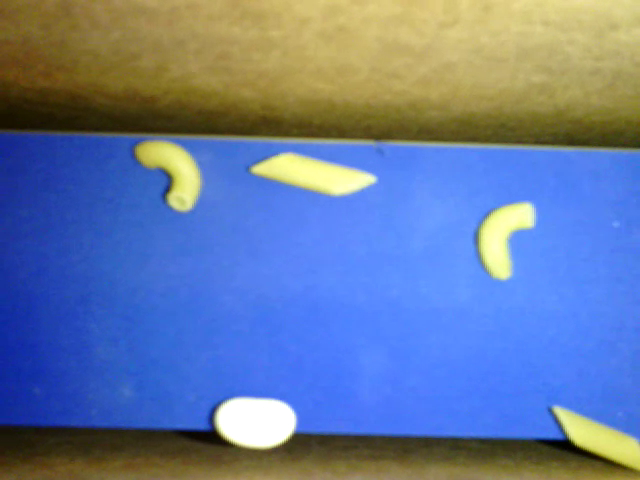elbow: (134, 141, 204, 211), (476, 201, 536, 279)
penne: (248, 151, 378, 199), (550, 403, 639, 470)
